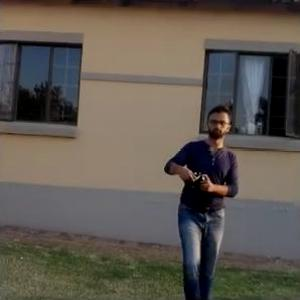follow: (157, 98, 243, 299)
